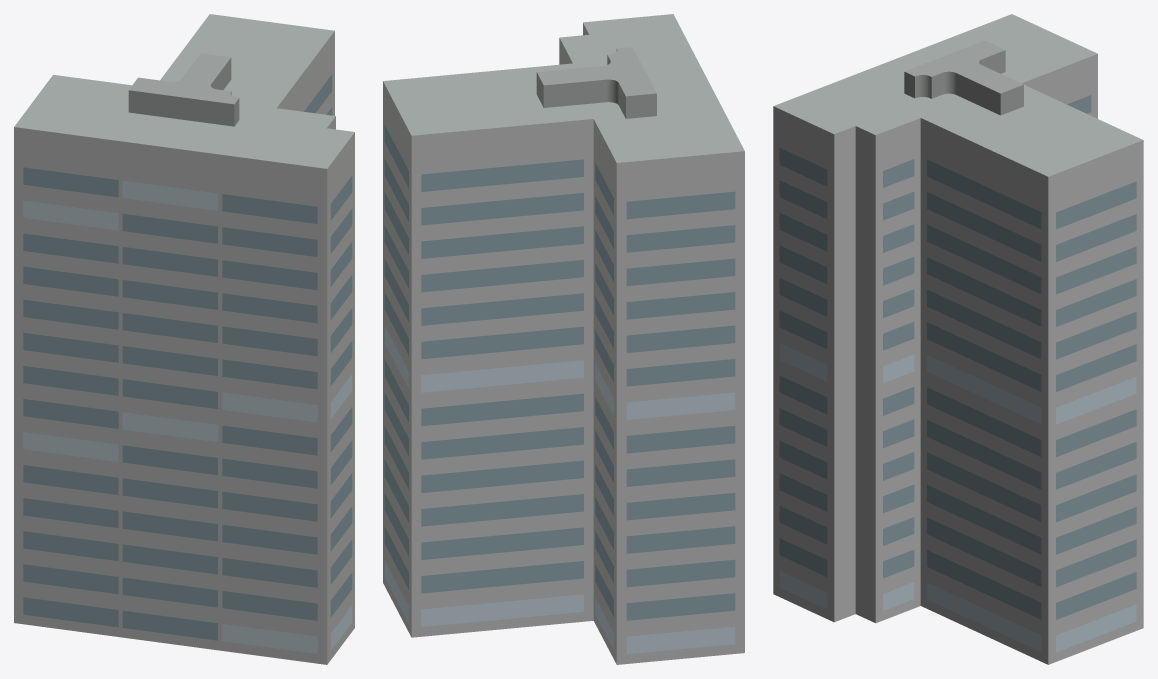
The model's file is fallback-gaepo-xi-presidence-405.glb.
The picture shows the model from 3 angles, left to right: view 1: azimuth 30°, elevation 25°; view 2: azimuth 150°, elevation 25°; view 3: azimuth 270°, elevation 25°; orthographic projection. The views are drawn at different scales.
Visible parts, largest first — view 1: fallback-gaepo-xi-presidence-405; view 2: fallback-gaepo-xi-presidence-405; view 3: fallback-gaepo-xi-presidence-405.
Part boxes in pixels (box(x1,y1,x2,y2)): fallback-gaepo-xi-presidence-405: box(14, 14, 354, 664); fallback-gaepo-xi-presidence-405: box(383, 14, 744, 664); fallback-gaepo-xi-presidence-405: box(773, 14, 1143, 664).
Size of the model in its own units: 32.75 by 47.81 by 31.45.
